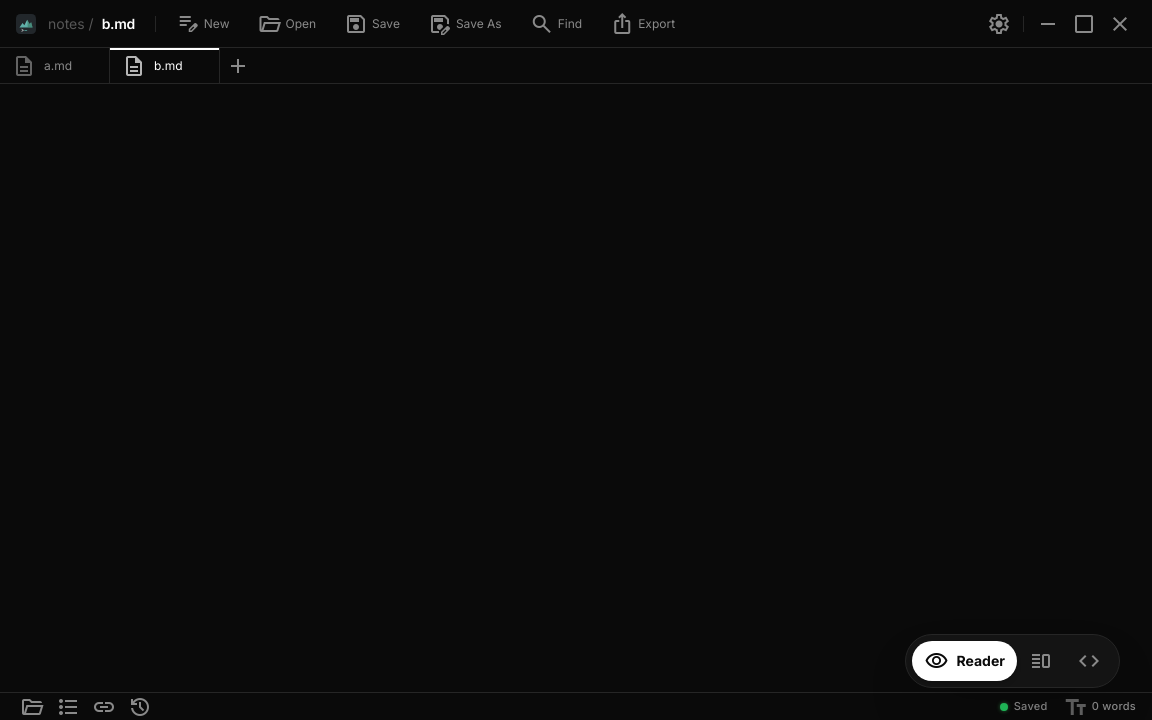
Test: App external reload › does not reload a background tab over edits made after it was judged clean
Press the mouse on the tab "a.md" at (55, 66), box [0,48,110,83]
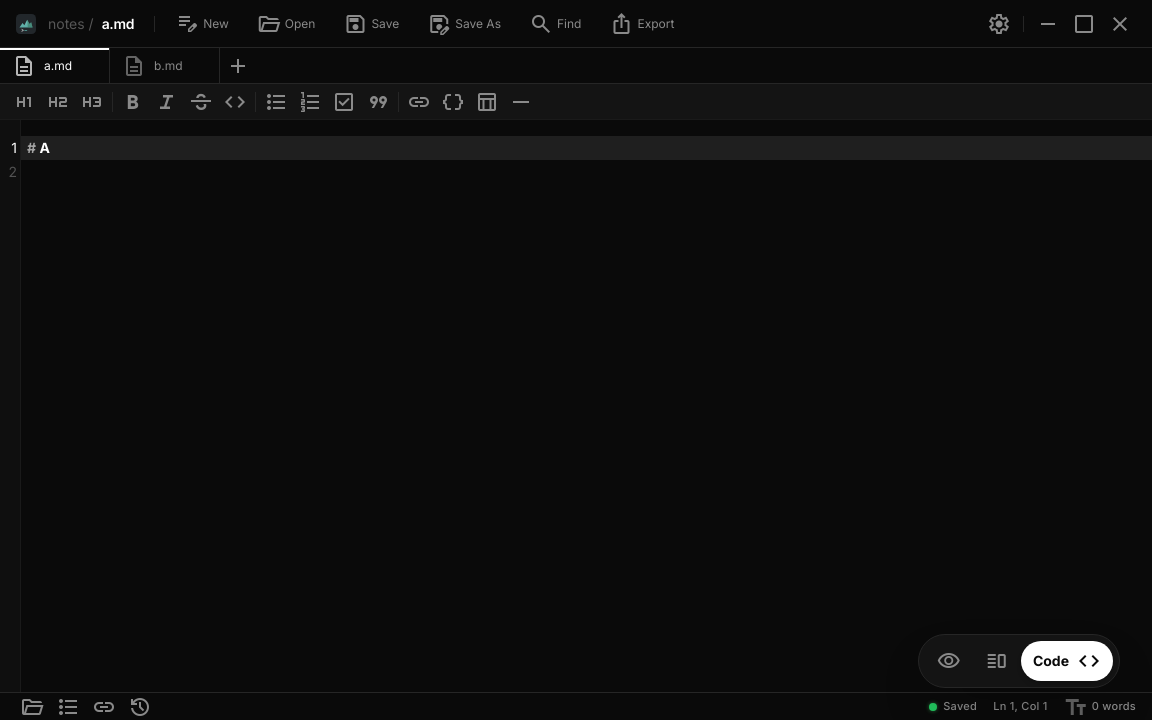
Click the button named "bold" at (133, 102), box [117,86,149,118]
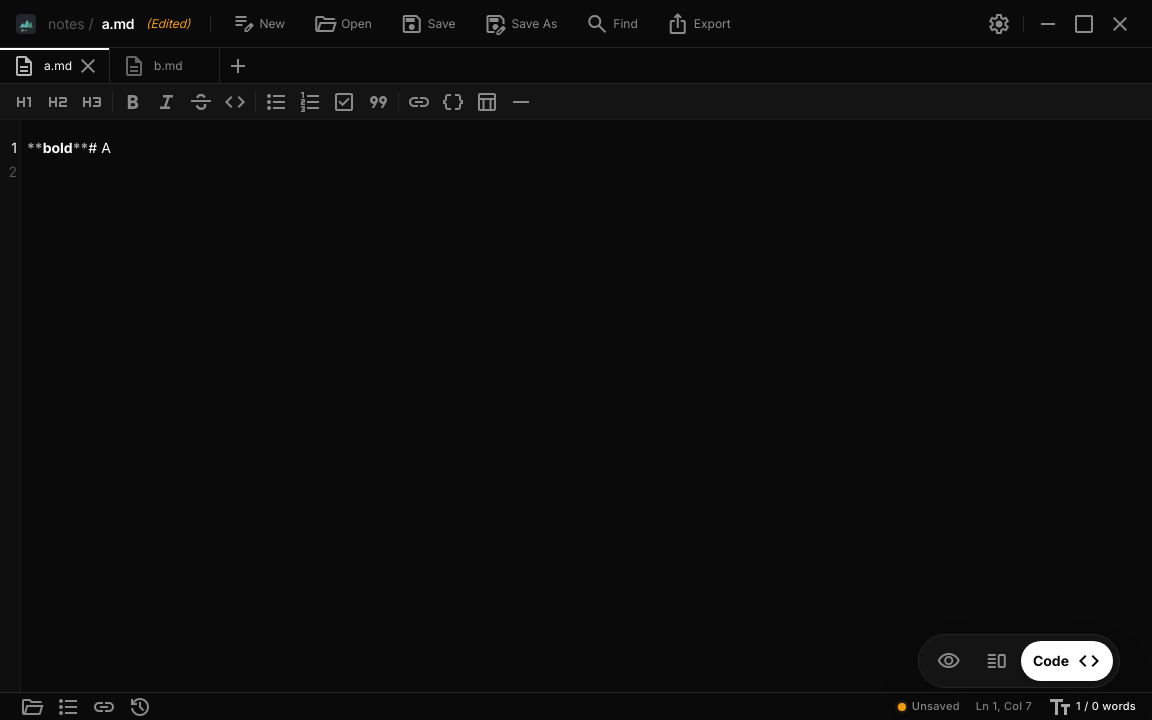
Check: the text "Unsaved" is shown, box [912,698,960,715]
Press the mouse on the tab "b.md" at (165, 66), box [110,48,220,83]
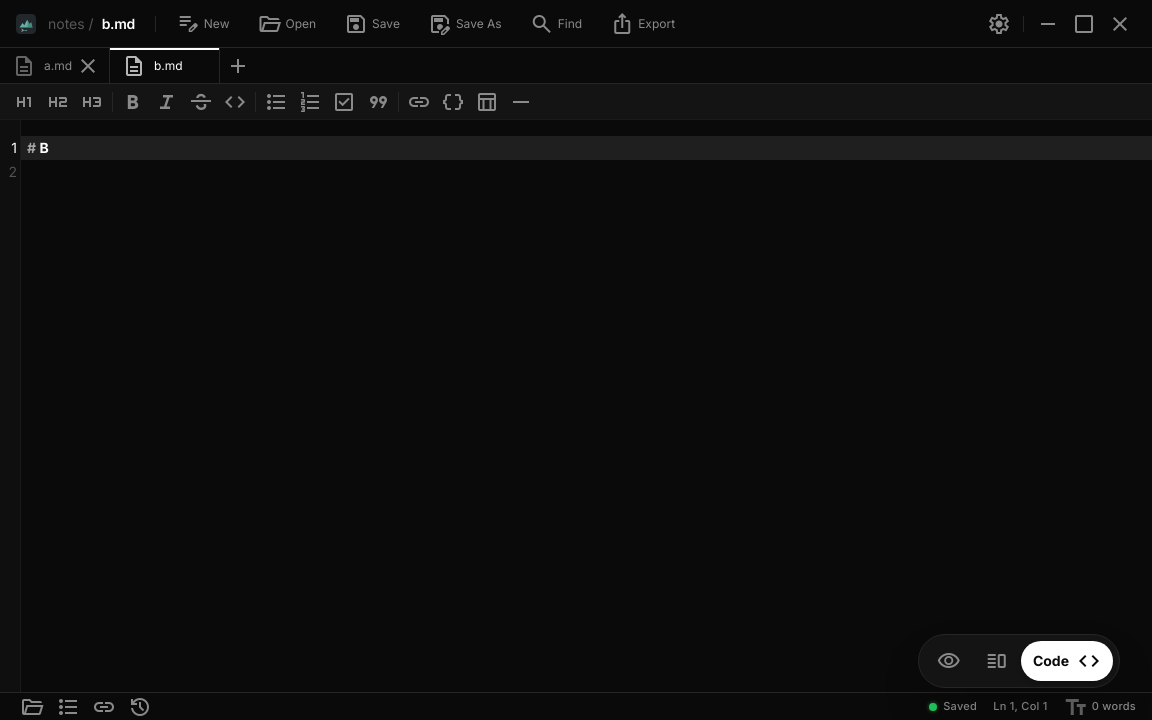
Press the mouse on the tab "a.md" at (55, 66), box [0,48,110,83]
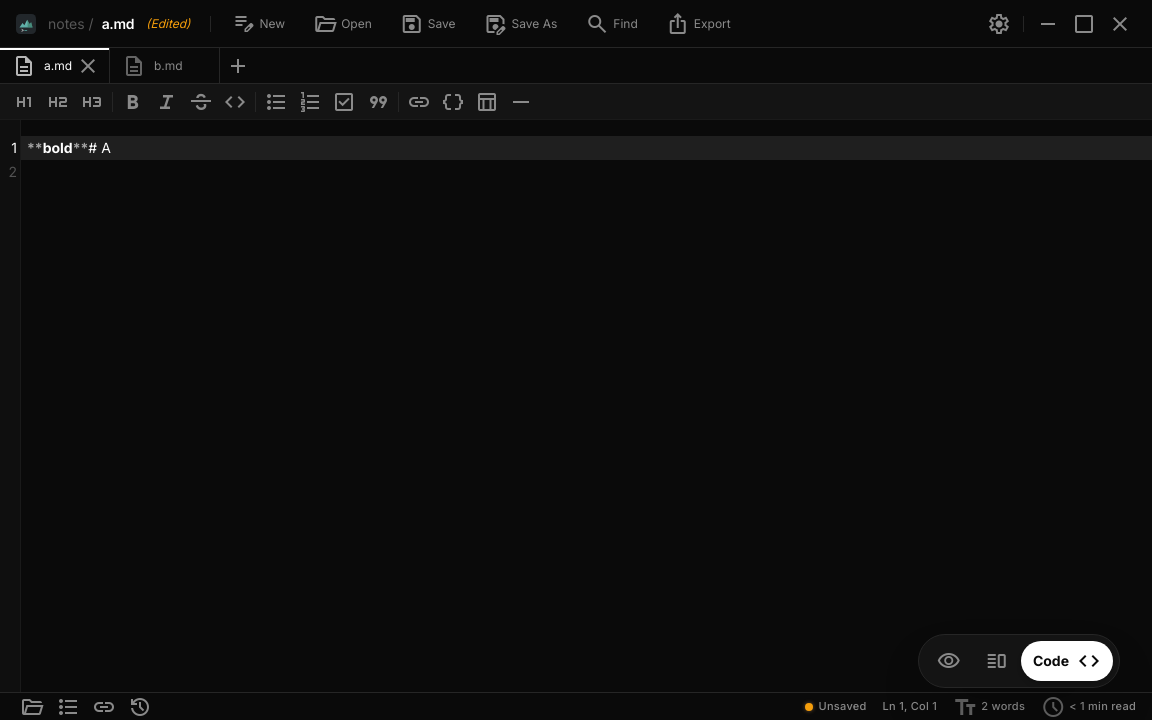
Check: the field with class "cm-content" shows "**", box [21,136,1151,160]
